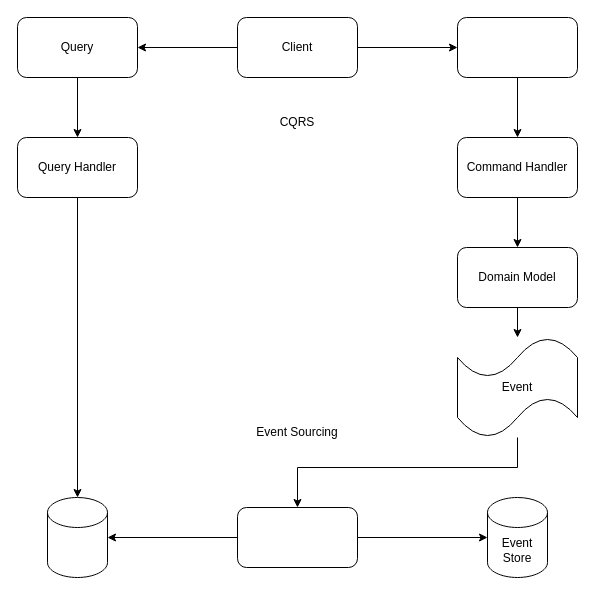
Some shapes in this 595 by 595 pixel diagram are drawn without their labels. The shapes that lost their labels are listed below. From the top down, each one's box as (x1, y1, x2, y2) in pixels, then its label:
(456, 16, 578, 78): Command
(46, 496, 108, 578): Query Database
(236, 506, 358, 568): Event Handler
